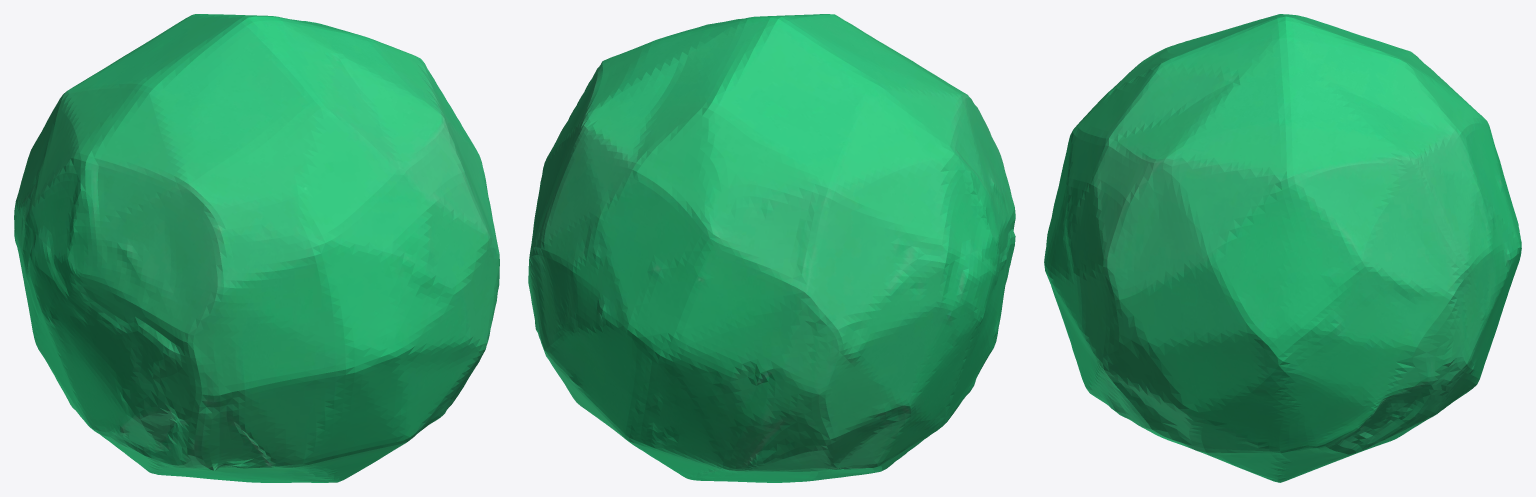
File: coin.glb
The picture shows the model from 3 angles, left to right: view 1: azimuth 30°, elevation 25°; view 2: azimuth 150°, elevation 25°; view 3: azimuth 270°, elevation 25°; orthographic projection. The views are drawn at different scales.
Visible parts, largest first — view 1: tripo_node_b16781d6-7c59-44a1-91ca-0fb3157cad1c; view 2: tripo_node_b16781d6-7c59-44a1-91ca-0fb3157cad1c; view 3: tripo_node_b16781d6-7c59-44a1-91ca-0fb3157cad1c.
Boxes of the visible parts, x1,y1,x2,y2 form: tripo_node_b16781d6-7c59-44a1-91ca-0fb3157cad1c: (14, 14, 499, 482); tripo_node_b16781d6-7c59-44a1-91ca-0fb3157cad1c: (528, 14, 1015, 482); tripo_node_b16781d6-7c59-44a1-91ca-0fb3157cad1c: (1044, 14, 1521, 482).
Size of the model in its own units: 0.9676 by 0.9979 by 0.9765.
1 material, 1 textured.
